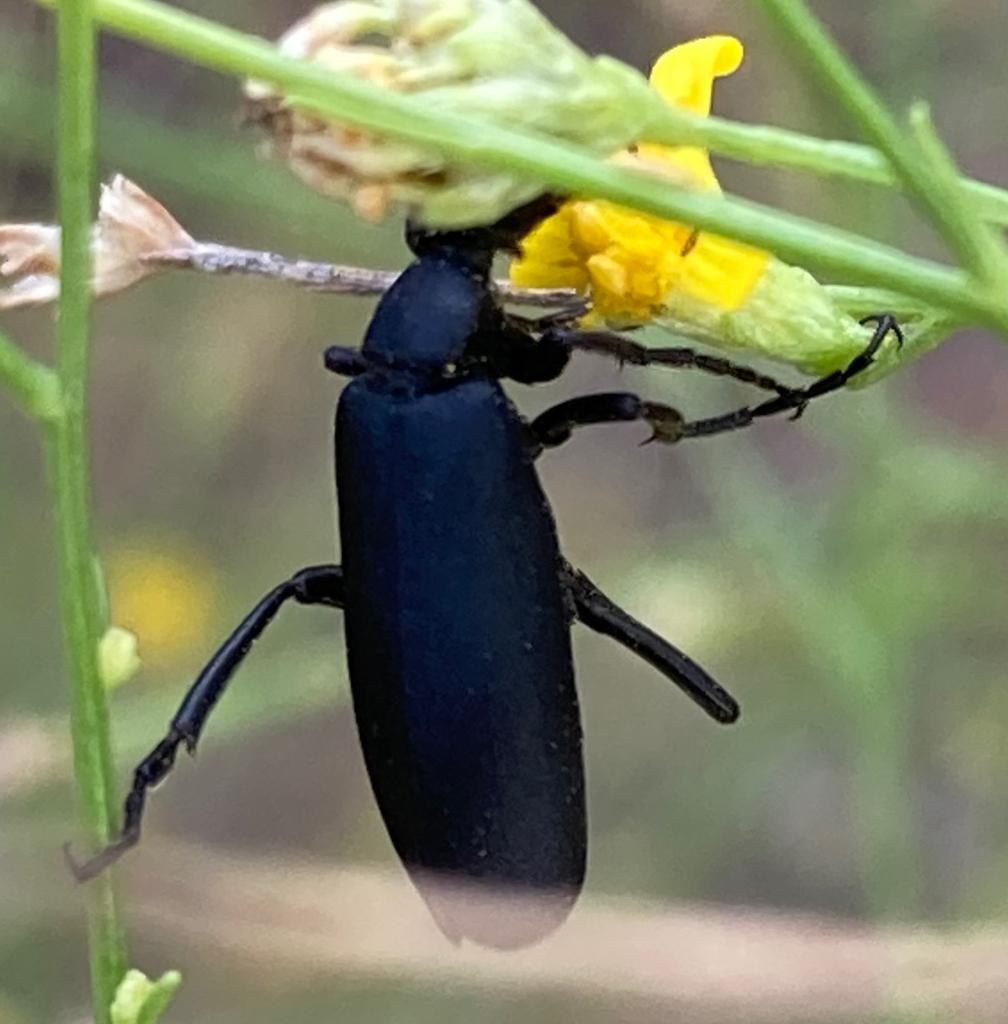blister_beetle: (26, 94, 967, 1024)
